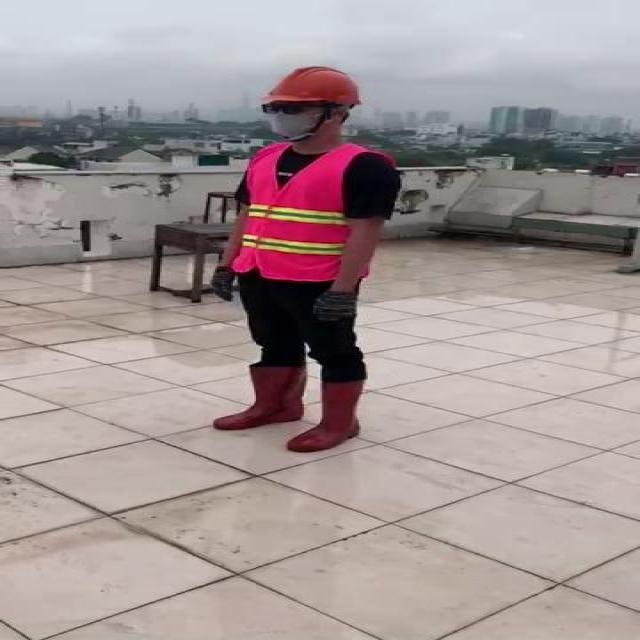boots: (196, 359, 310, 430), (286, 375, 374, 456)
face_mask: (264, 98, 321, 137)
glasses: (257, 99, 315, 119)
hand_glove: (306, 291, 362, 325), (204, 260, 240, 300)
head_helmet: (268, 64, 366, 106)
person: (192, 62, 407, 458)
vest: (233, 142, 400, 283)
